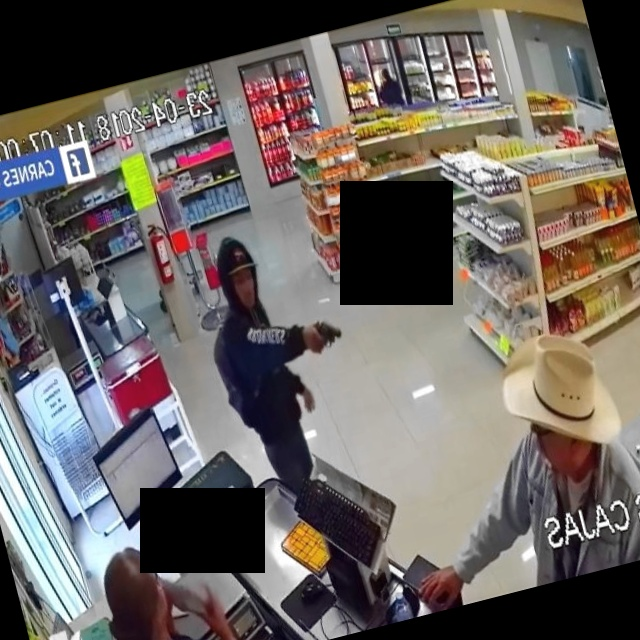gun: (295, 300, 357, 372)
